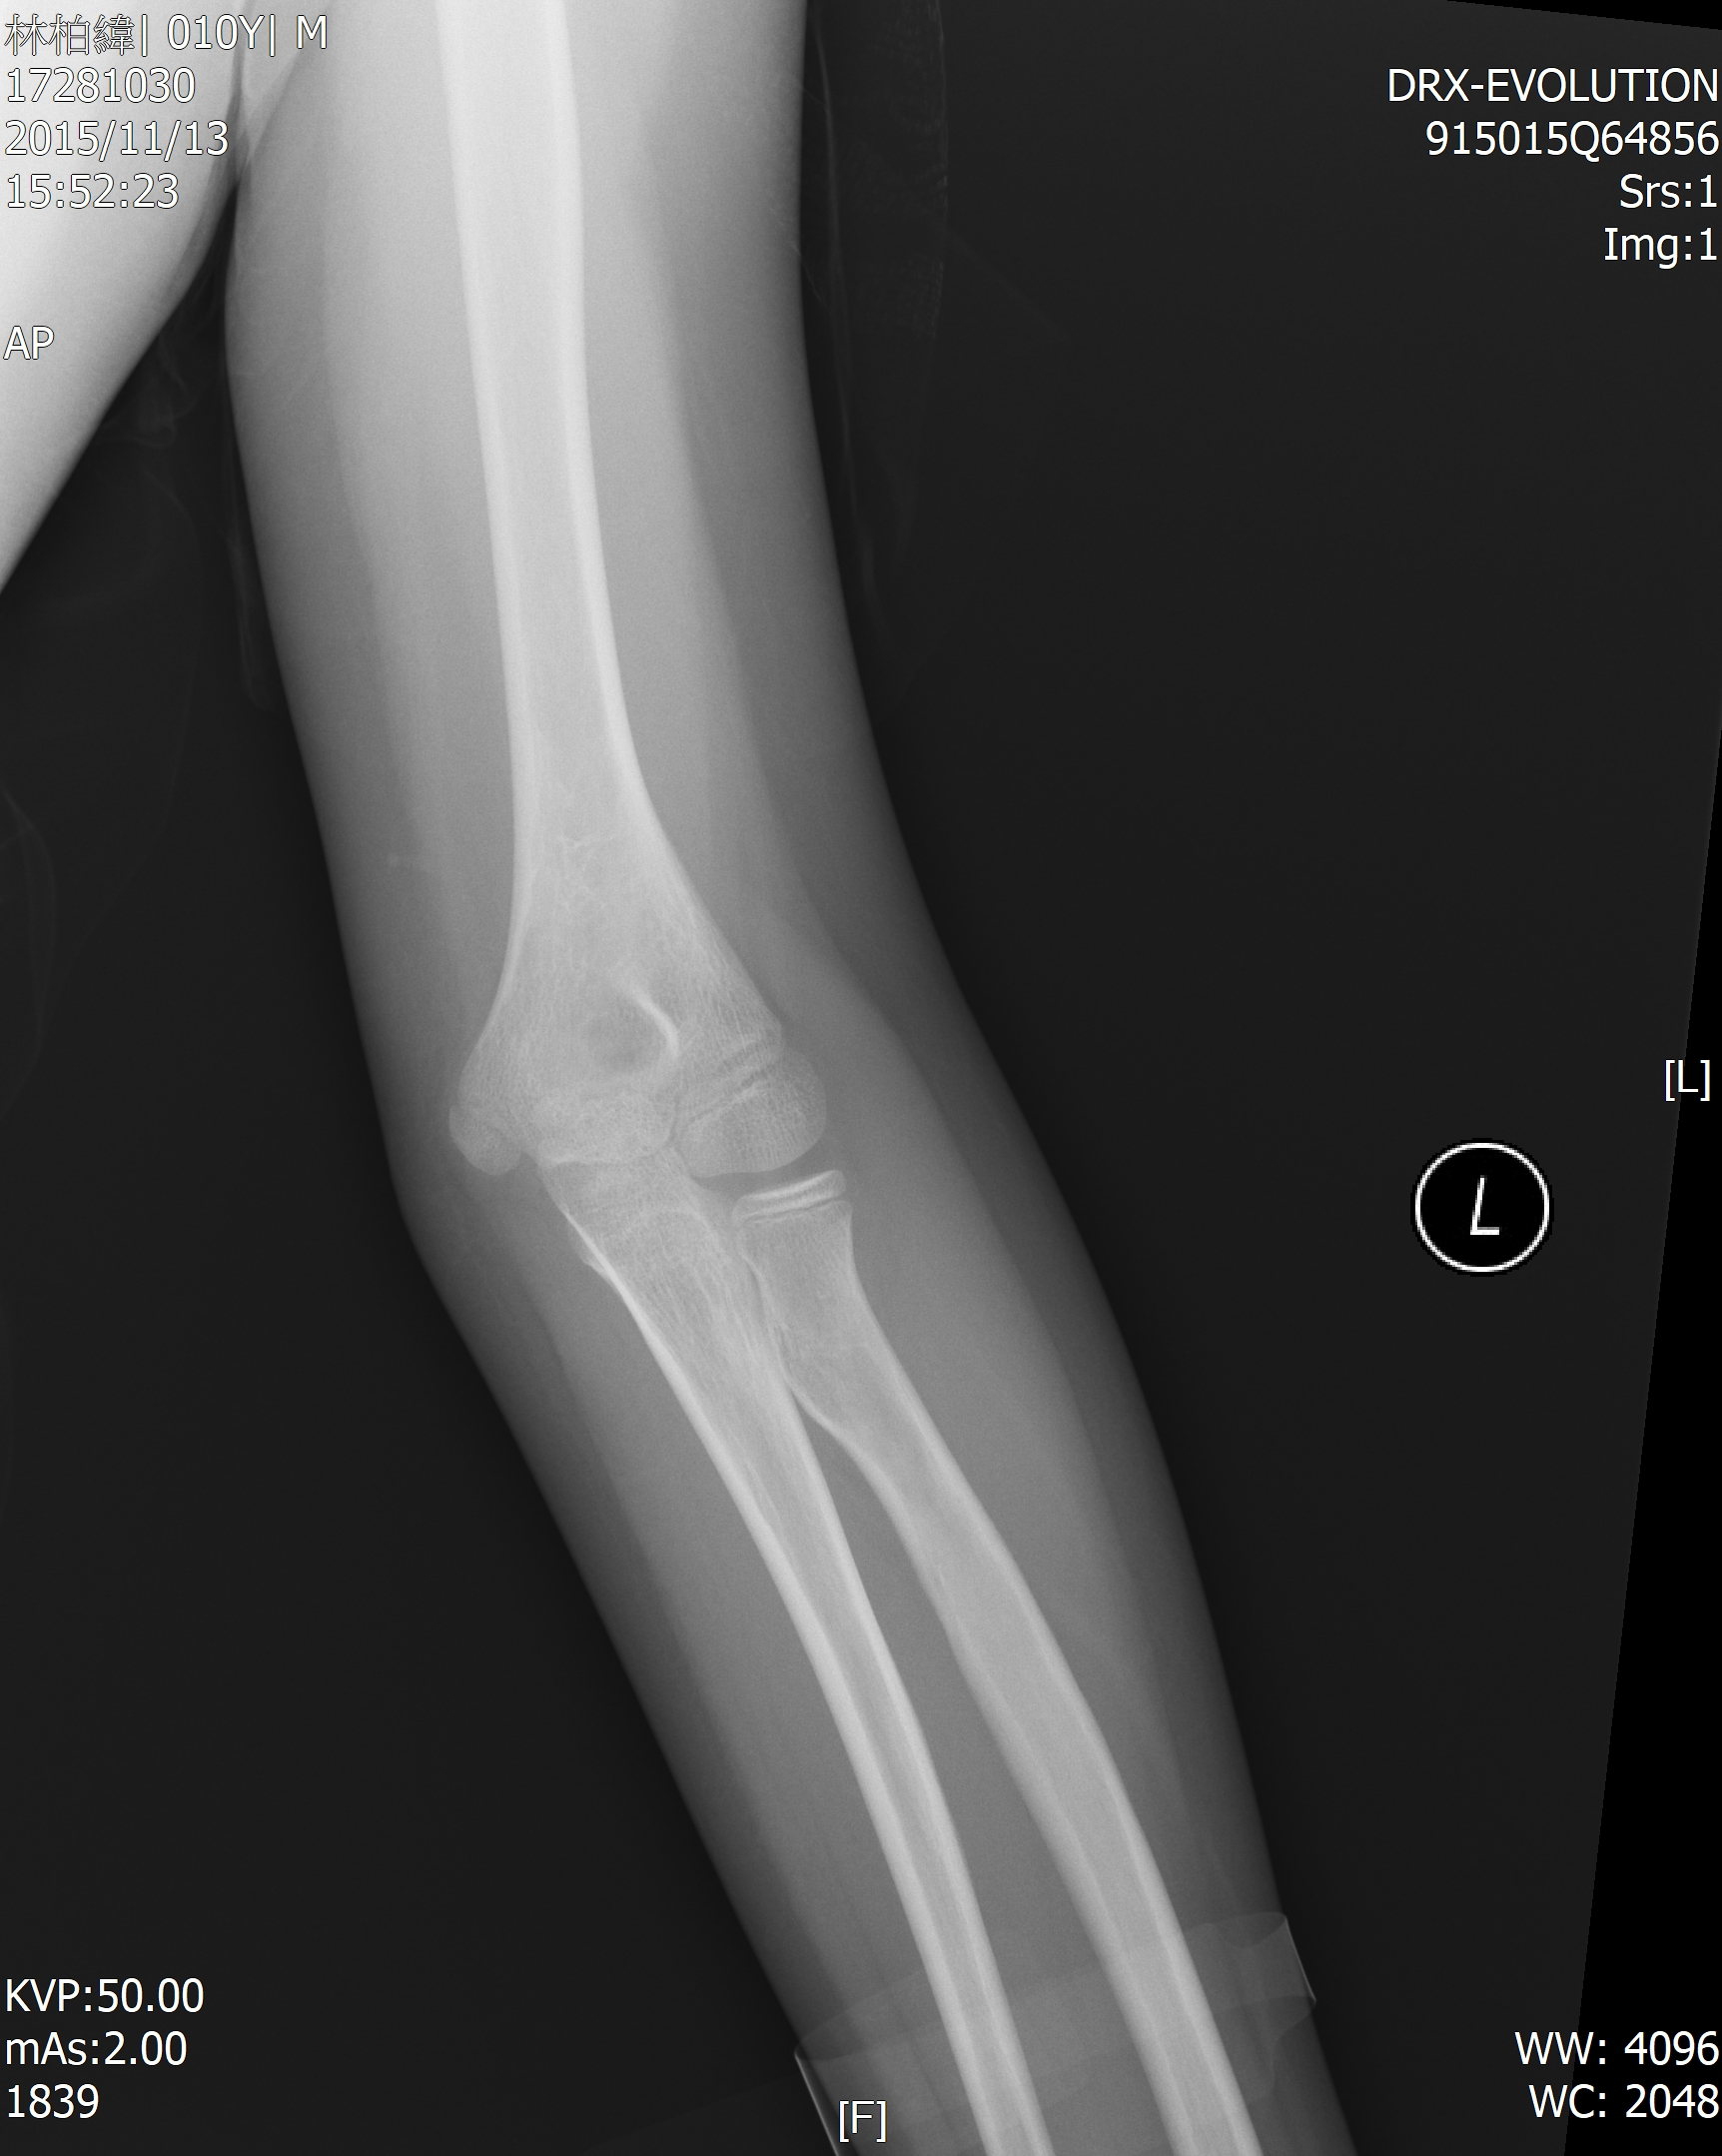Normal: (214, 771, 1024, 1522)
